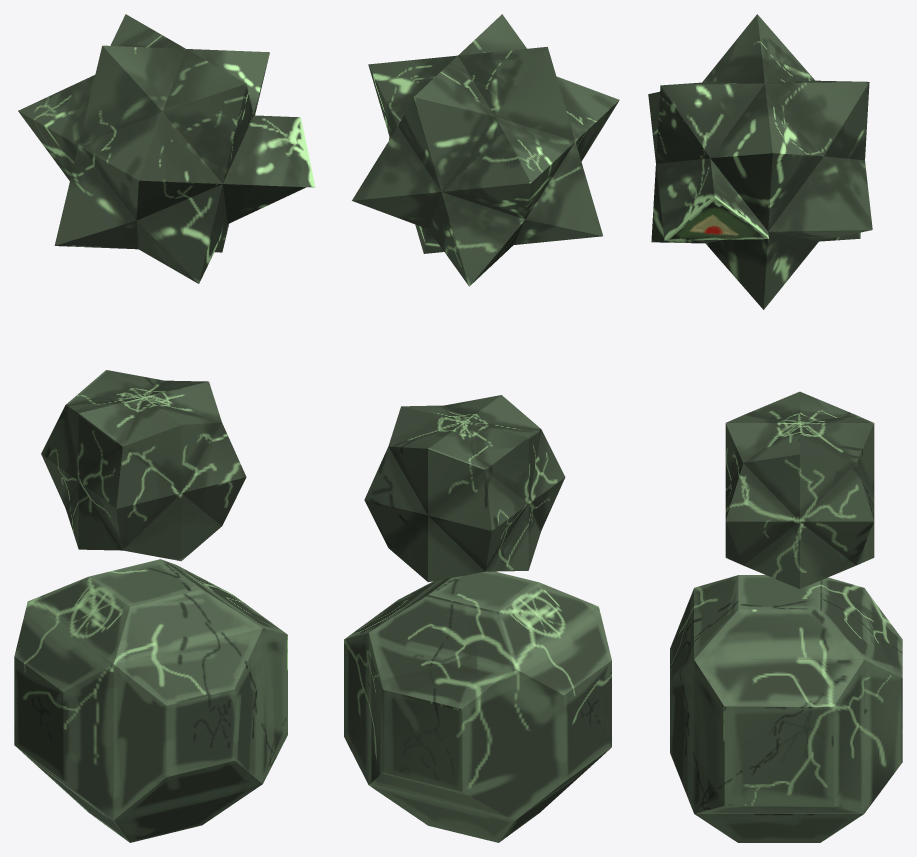
File: golem_detect.obj
3 views of the same model, side by side, from view 1: azimuth 30°, elevation 25°; view 2: azimuth 150°, elevation 25°; view 3: azimuth 270°, elevation 25° (orthographic). The views are drawn at different scales.
Parts seen in each view (by area): view 1: Cube; view 2: Cube; view 3: Cube.
Boxes of the visible parts, bbox=[...] form: Cube: bbox=[14, 14, 315, 842]; Cube: bbox=[344, 14, 619, 842]; Cube: bbox=[648, 14, 902, 842].
Bounding box in the file's own units: 3.08 × 10.19 × 2.99.
Materials: 1 (1 with a texture image).
